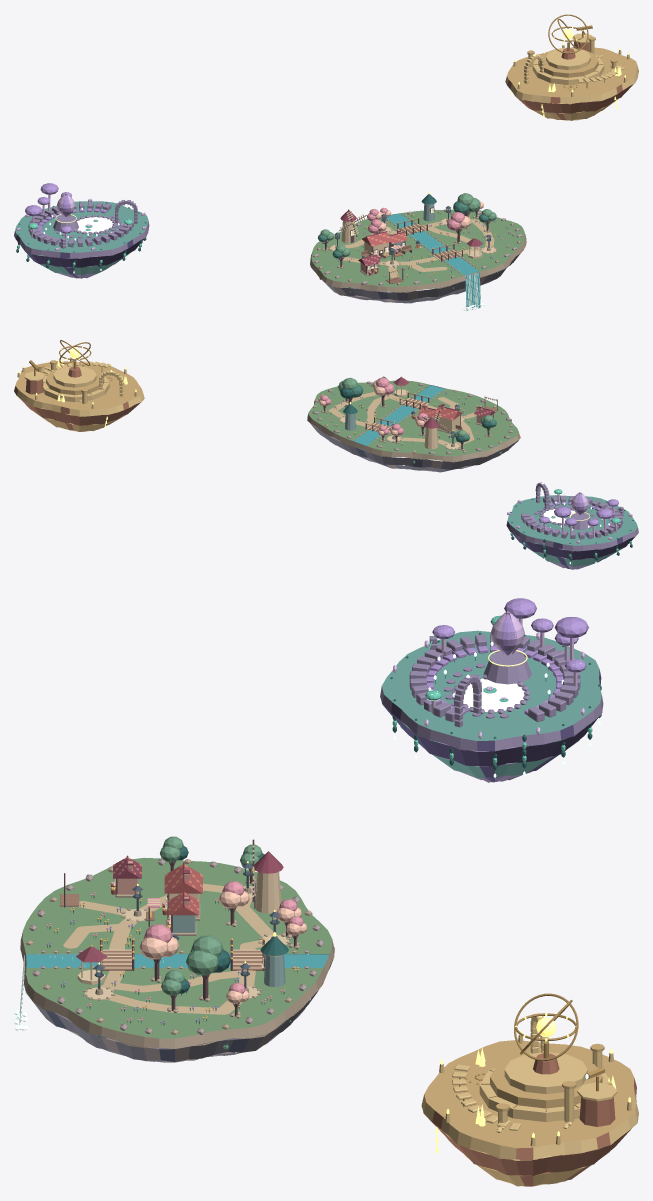
The model's file is lantern-vale.glb.
3 renders of one model, top to bottom at view 1: azimuth 30°, elevation 25°; view 2: azimuth 150°, elevation 25°; view 3: azimuth 270°, elevation 25°, orthographic. The views are drawn at different scales.
Parts seen in each view (by area): view 1: Static_Grass, Static_SunSand, Static_MoonMoss, Static_SunStone, Static_MoonSoil, Static_Earth, Static_Cliff, Static_SunRock, Static_Water, Static_Path, Static_MoonRock, Static_MoonPetal (+10 smaller); view 2: Static_Grass, Static_SunSand, Static_SunStone, Static_MoonMoss, Static_MoonSoil, Static_Earth, Static_SunRock, Static_Cliff, Static_Path, Static_MoonRock, Static_Water, Static_MoonPetal (+9 smaller); view 3: Static_Grass, Static_SunSand, Static_MoonMoss, Static_SunStone, Static_MoonSoil, Static_Earth, Static_Path, Static_SunRock, Static_MoonPetal, Static_MoonRock, Static_LeafLight, Static_Cliff (+14 smaller).
Part boxes in pixels (x1,y1,x2,y2): Static_Grass: (311,209,524,286); Static_SunSand: (507,36,637,120); Static_MoonMoss: (15,201,148,275); Static_SunStone: (505,33,638,120); Static_MoonSoil: (14,200,149,278); Static_Earth: (310,209,526,292); Static_Cliff: (310,217,526,303); Static_SunRock: (505,41,638,120); Static_Water: (385,213,480,310); Static_Path: (340,219,494,278); Static_MoonRock: (14,235,144,278); Static_MoonPetal: (25,183,124,245); Static_Grass: (309,380,518,456); Static_SunSand: (15,360,142,431); Static_SunStone: (15,357,144,431); Static_MoonMoss: (507,495,637,566); Static_MoonSoil: (509,482,638,569); Static_Earth: (307,385,520,462); Static_SunRock: (14,366,140,430); Static_Cliff: (307,390,518,472); Static_Path: (328,392,476,445); Static_MoonRock: (506,521,634,569); Static_Water: (354,385,444,445); Static_MoonPetal: (530,499,618,537); Static_Grass: (22,857,332,1038); Static_SunSand: (424,1040,636,1186); Static_MoonMoss: (382,630,601,777); Static_SunStone: (421,1013,638,1186); Static_MoonSoil: (380,634,603,782); Static_Earth: (20,859,334,1048); Static_Path: (63,883,276,1014); Static_SunRock: (423,1053,638,1186); Static_MoonPetal: (426,598,588,715); Static_MoonRock: (381,670,603,782); Static_LeafLight: (27,836,291,1049); Static_Cliff: (20,938,334,1062).
Size of the model in its own units: 105 by 21.38 by 48.8.
